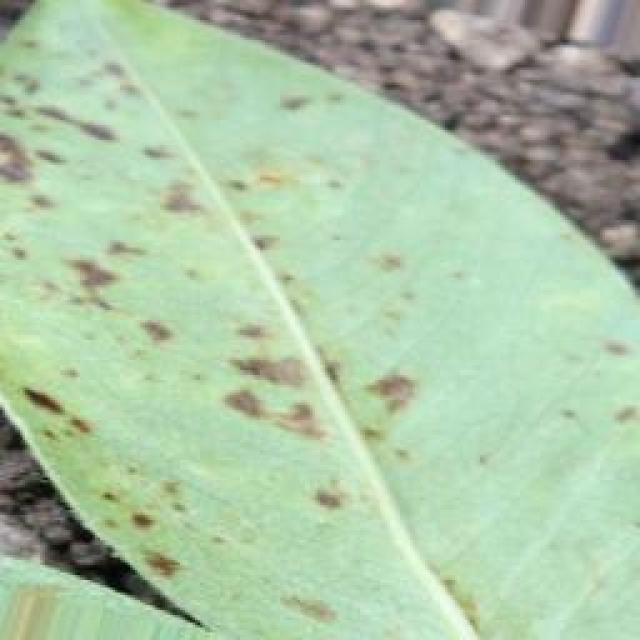Whitefly: (0, 3, 539, 635)
